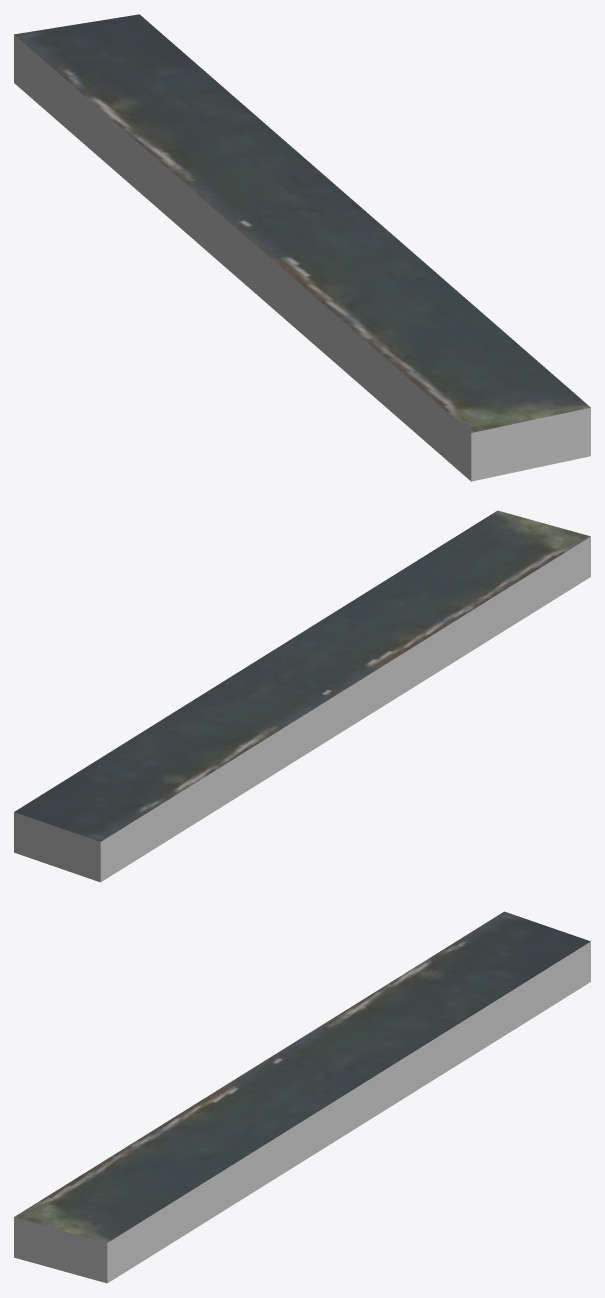
Rendered from DEBW_0010007TxiG.gltf.
The picture shows the model from 3 angles, top to bottom: view 1: azimuth 30°, elevation 25°; view 2: azimuth 150°, elevation 25°; view 3: azimuth 330°, elevation 25°; orthographic projection. The views are drawn at different scales.
Parts seen in each view (by area): view 1: Z_UP; view 2: Z_UP; view 3: Z_UP.
Part boxes in pixels (left/top/right/bottom): Z_UP: left=14, top=14, right=590, bottom=481; Z_UP: left=14, top=510, right=590, bottom=882; Z_UP: left=14, top=911, right=590, bottom=1283.
Bounding box in the file's own units: 9.71 × 2.5 × 49.12.
Materials: 2 (1 with a texture image).
